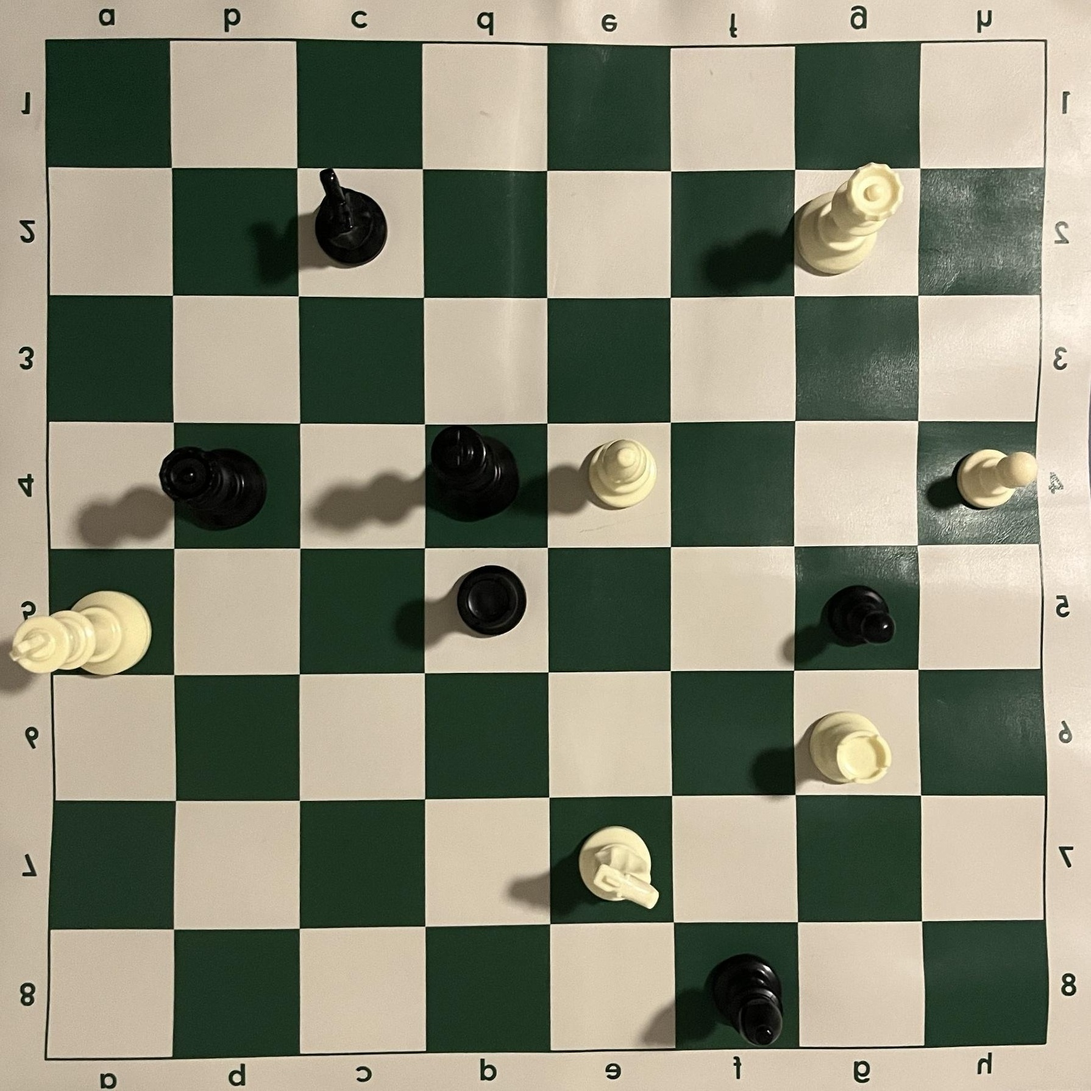black_bishop: (703, 951, 785, 1047)
black_king: (430, 424, 521, 521)
black_knight: (314, 168, 389, 268)
black_pawn: (819, 584, 898, 648)
black_queen: (158, 446, 268, 530)
black_rook: (455, 566, 527, 637)
white_bishop: (586, 438, 658, 510)
white_king: (9, 590, 152, 677)
white_knight: (578, 825, 660, 909)
white_pawn: (956, 448, 1039, 511)
white_queen: (795, 162, 904, 276)
white_rook: (809, 711, 892, 786)
